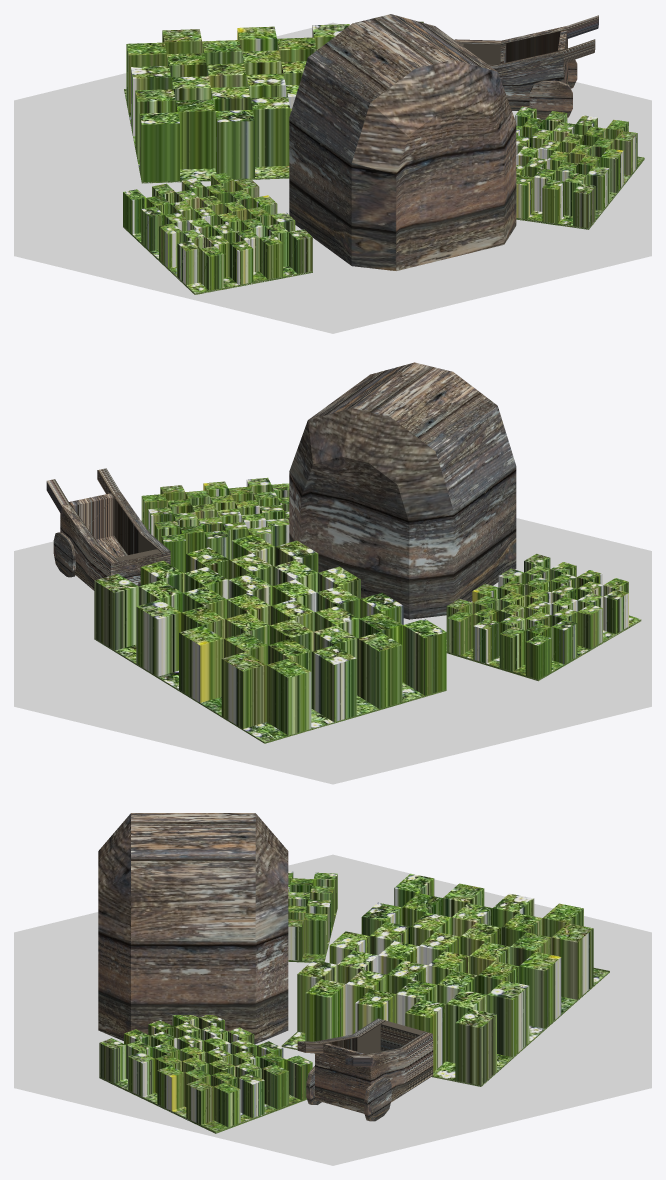
The model's file is farm_resource.glb.
The picture shows the model from 3 angles, top to bottom: view 1: azimuth 30°, elevation 25°; view 2: azimuth 150°, elevation 25°; view 3: azimuth 270°, elevation 25°; orthographic projection.
Parts seen in each view (by area): view 1: Improvement, Resource, Hex; view 2: Resource, Hex, Improvement; view 3: Resource, Hex, Improvement.
Part boxes in pixels (<box>): Improvement: <box>289,14,598,270</box>; Resource: <box>123,21,644,294</box>; Hex: <box>14,22,651,333</box>; Resource: <box>94,477,641,743</box>; Hex: <box>14,518,651,784</box>; Improvement: <box>46,362,516,619</box>; Resource: <box>99,871,609,1133</box>; Hex: <box>14,854,651,1165</box>; Improvement: <box>98,813,433,1121</box>.
Bounding box in the file's own units: 6.67 × 1.89 × 5.77.
2 materials, 2 textured.
